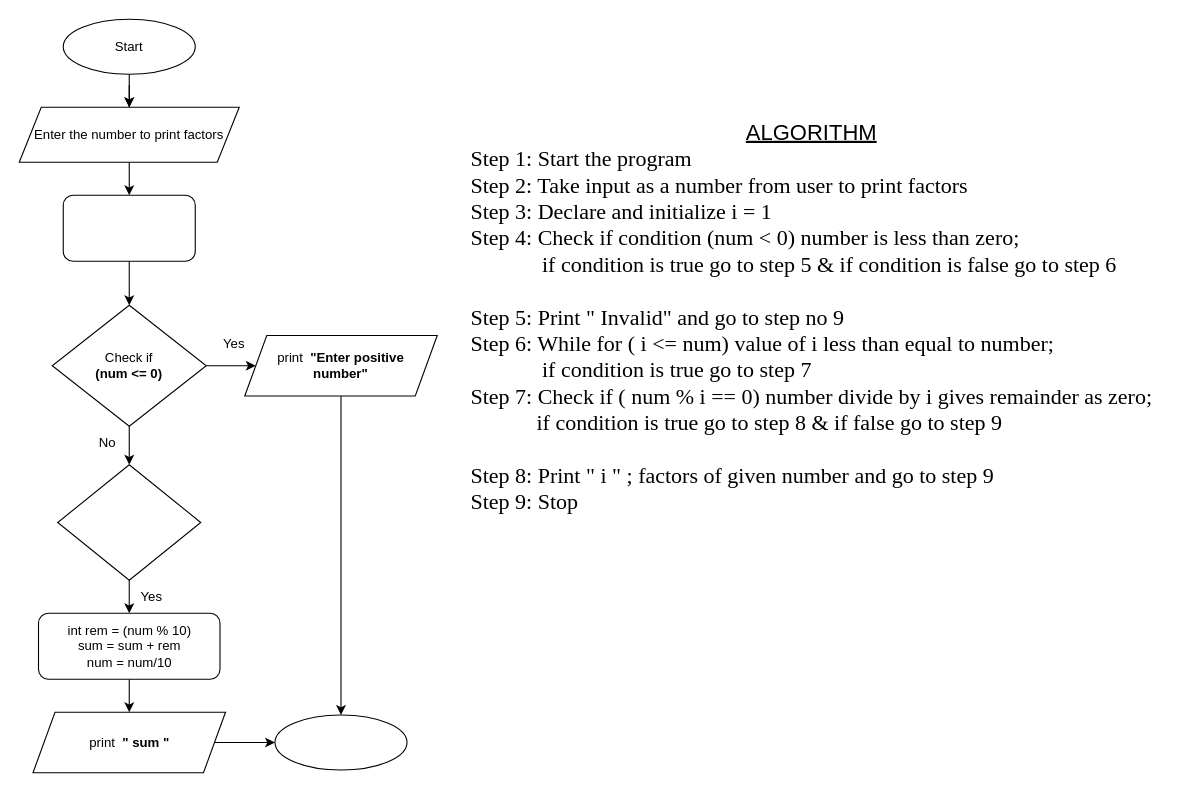
Image size: 1183x792. Some labels were removed from this diagram. Here are the shapes that lost their labels. From the top down, the centre of each, then its label:
At (x=128, y=227): "Declare and initialize sum=1".
At (x=129, y=522): "while ( num >0 )".
At (x=340, y=742): "Stop".
